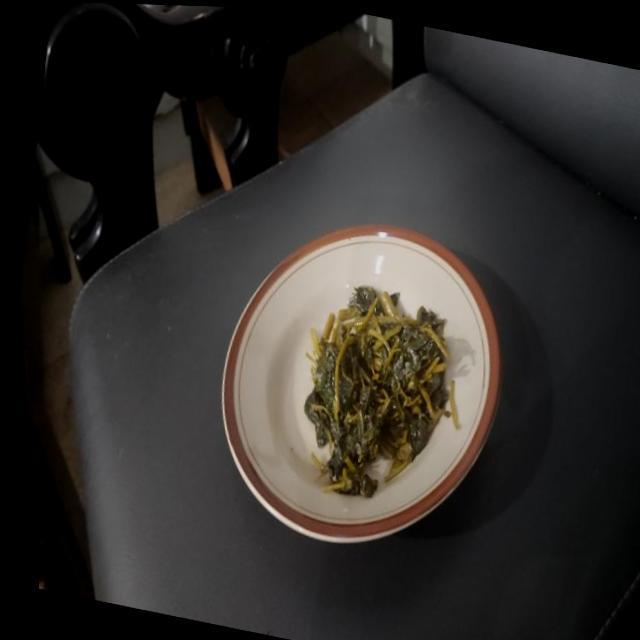tumis_kangkung: (304, 284, 459, 496)
